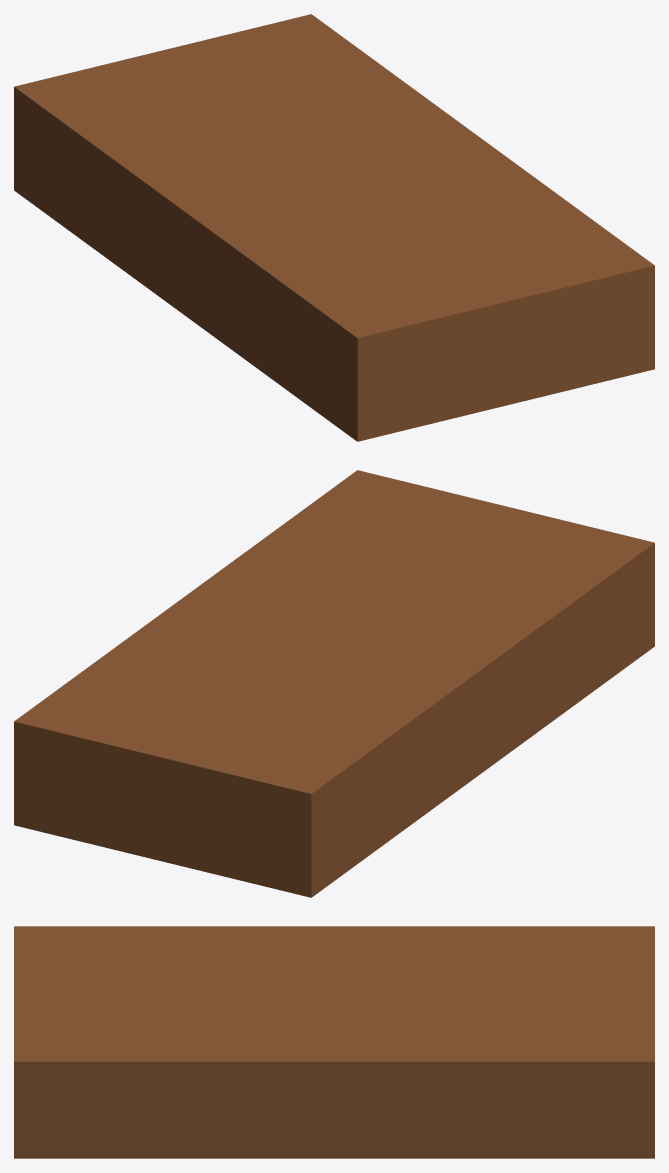
File: cleric__leg_r.glb
3 renders of one model, top to bottom at view 1: azimuth 30°, elevation 25°; view 2: azimuth 150°, elevation 25°; view 3: azimuth 270°, elevation 25°, orthographic. The views are drawn at different scales.
Parts seen in each view (by area): view 1: cleric__leg_r; view 2: cleric__leg_r; view 3: cleric__leg_r.
Boxes of the visible parts, x1,y1,x2,y2 form: cleric__leg_r: [14, 14, 654, 441]; cleric__leg_r: [14, 470, 654, 897]; cleric__leg_r: [14, 926, 654, 1158].
Size of the model in its own units: 0.3 by 0.1 by 0.6.
1 material, 1 textured.
